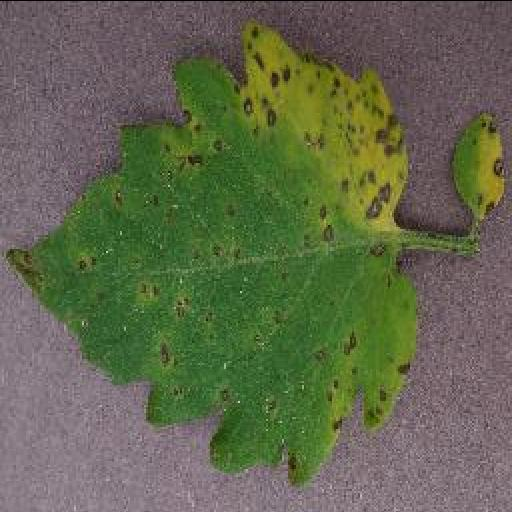disease_tomato: (2, 18, 418, 488), (448, 106, 510, 224)
